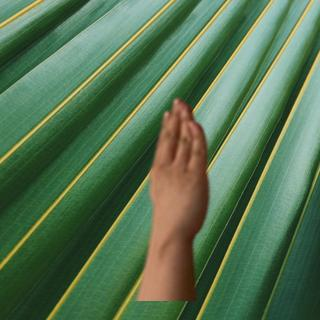RIGHT: (144, 92, 219, 240)
